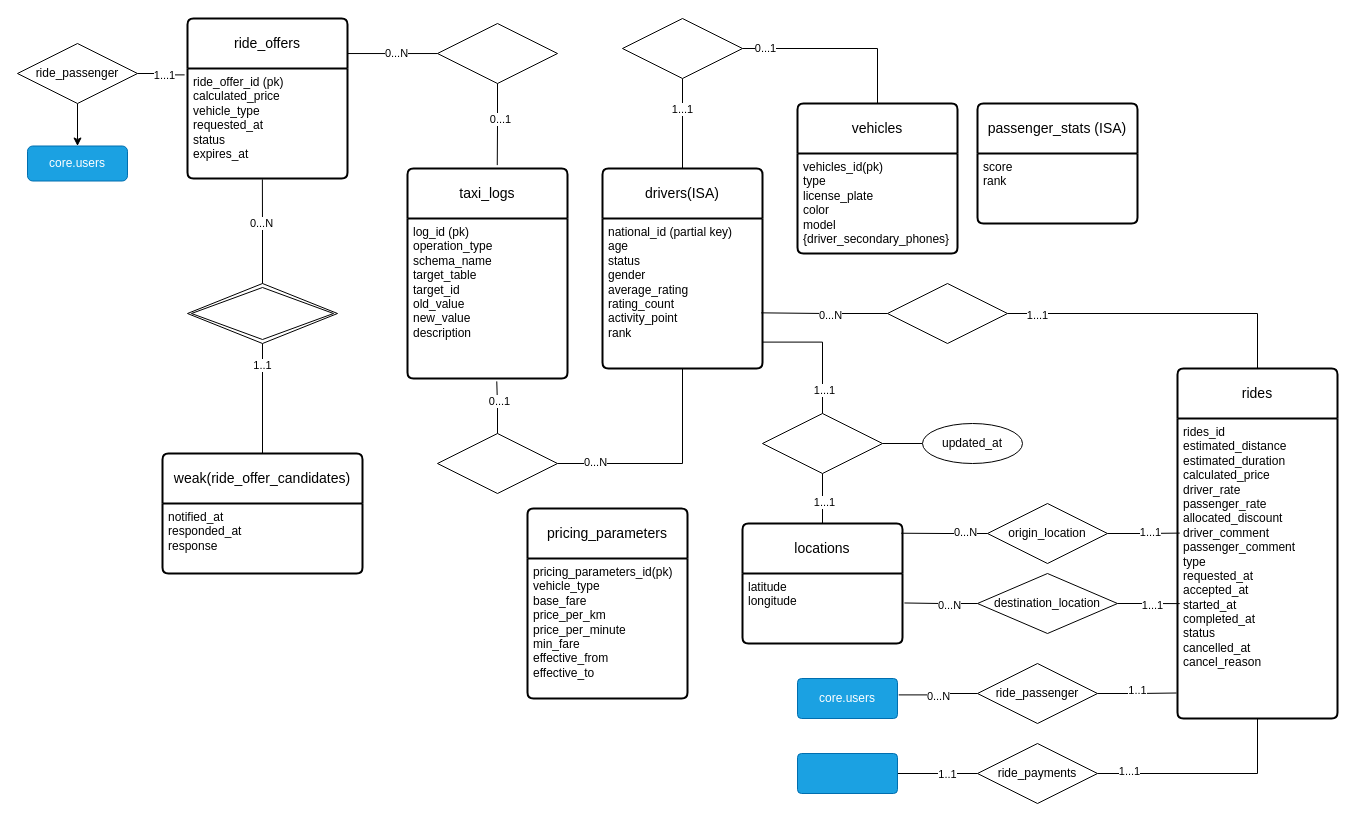
Image size: 1356x821. Some labels were removed from this diagram. Each missing label, with the centre of its shape:
"active_vehicles" goes at pixel 682 48.
"core.transactions" goes at pixel 847 773.
"driver_of_log" goes at pixel 497 463.
"live_location" goes at pixel 822 443.
"ride_candidates" goes at pixel 262 313.
"ride_driver" goes at pixel 947 313.
"ride_log" goes at pixel 497 53.
